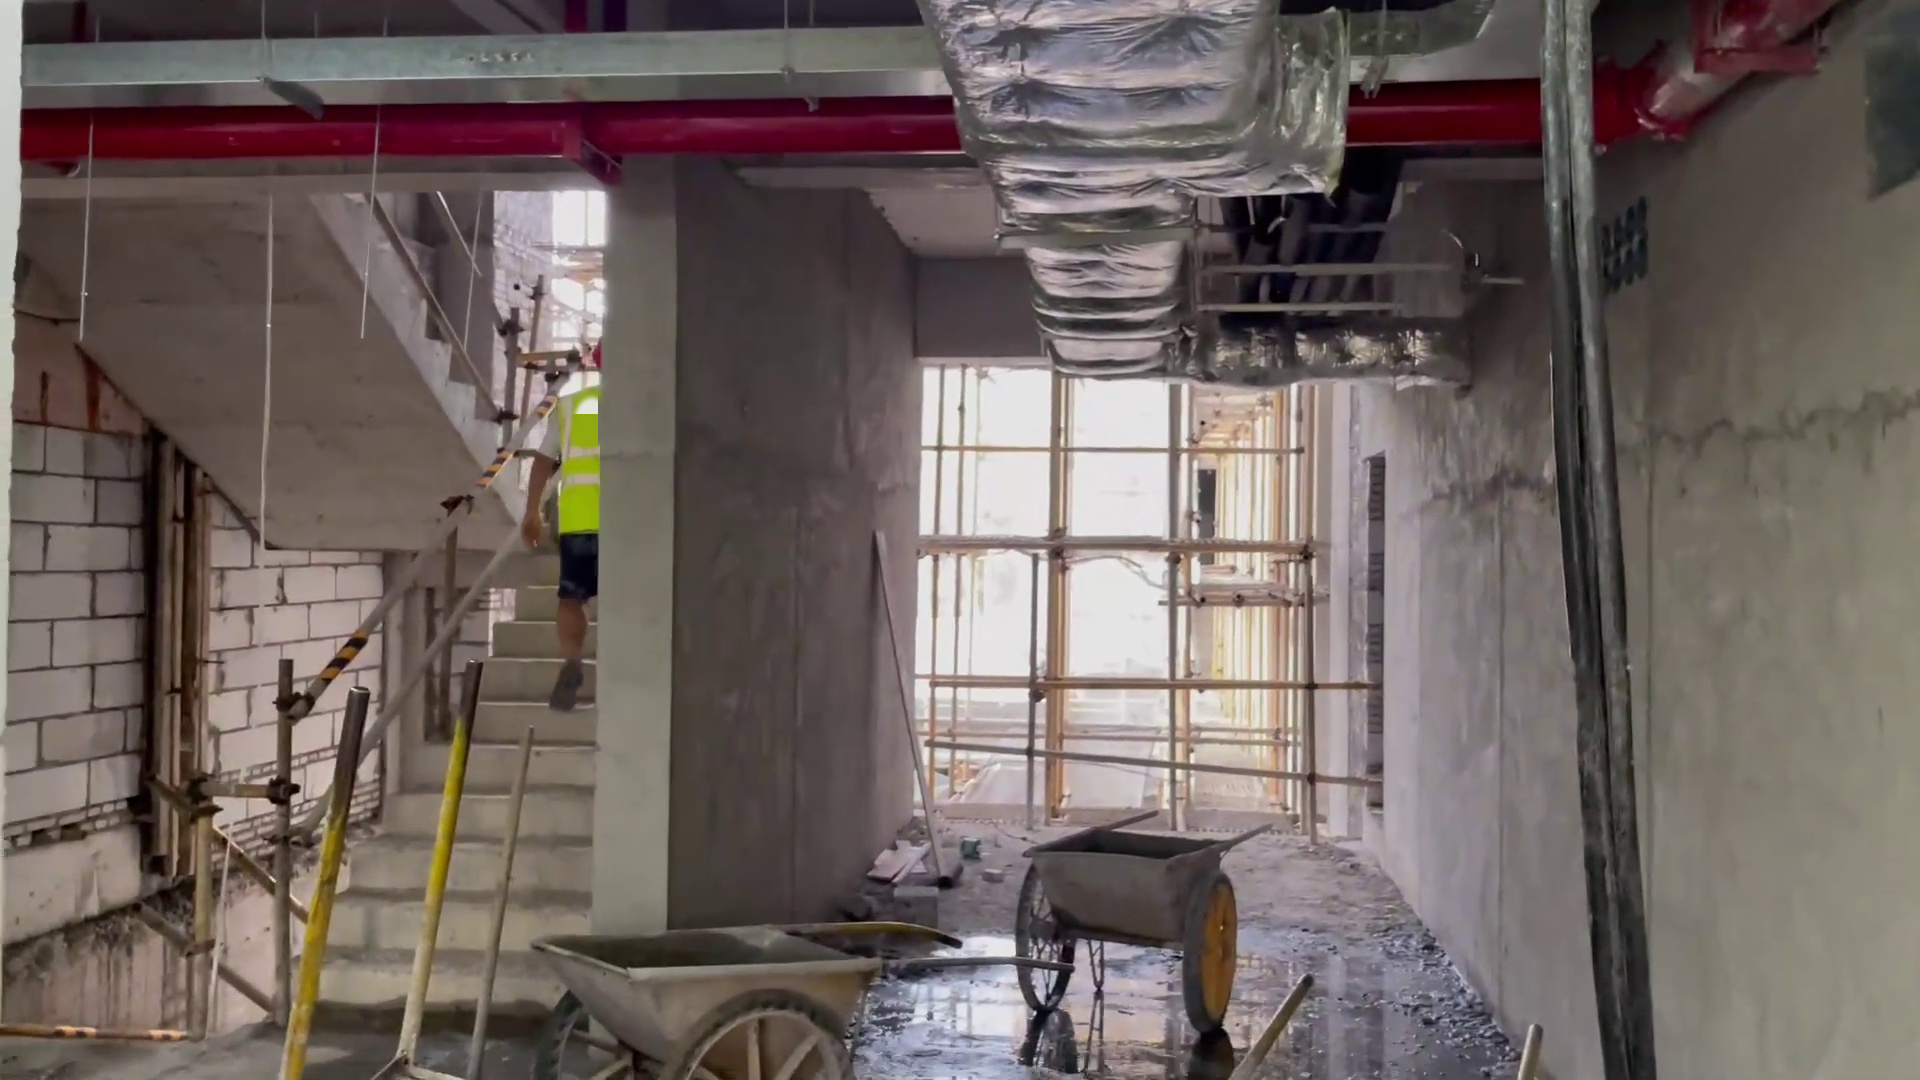handcart: (512, 919, 951, 1080), (987, 807, 1292, 1024)
person: (525, 340, 621, 728)
vest: (553, 385, 610, 532)
